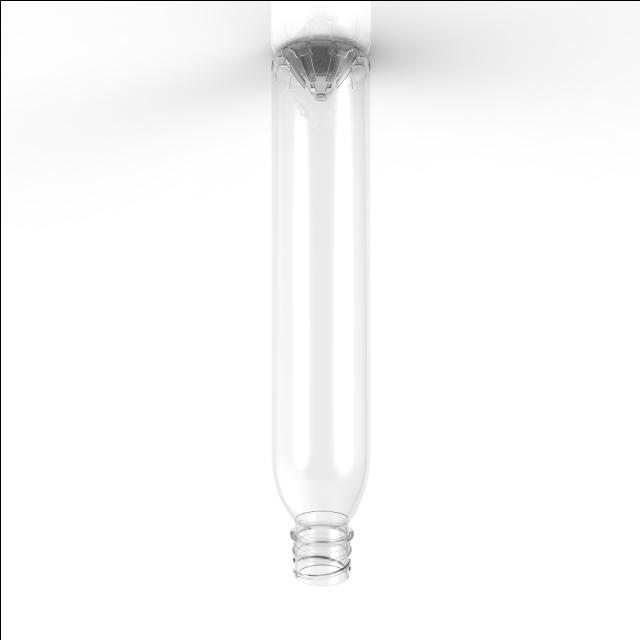bottom: (259, 23, 382, 118)
no_cap: (276, 504, 366, 596)
